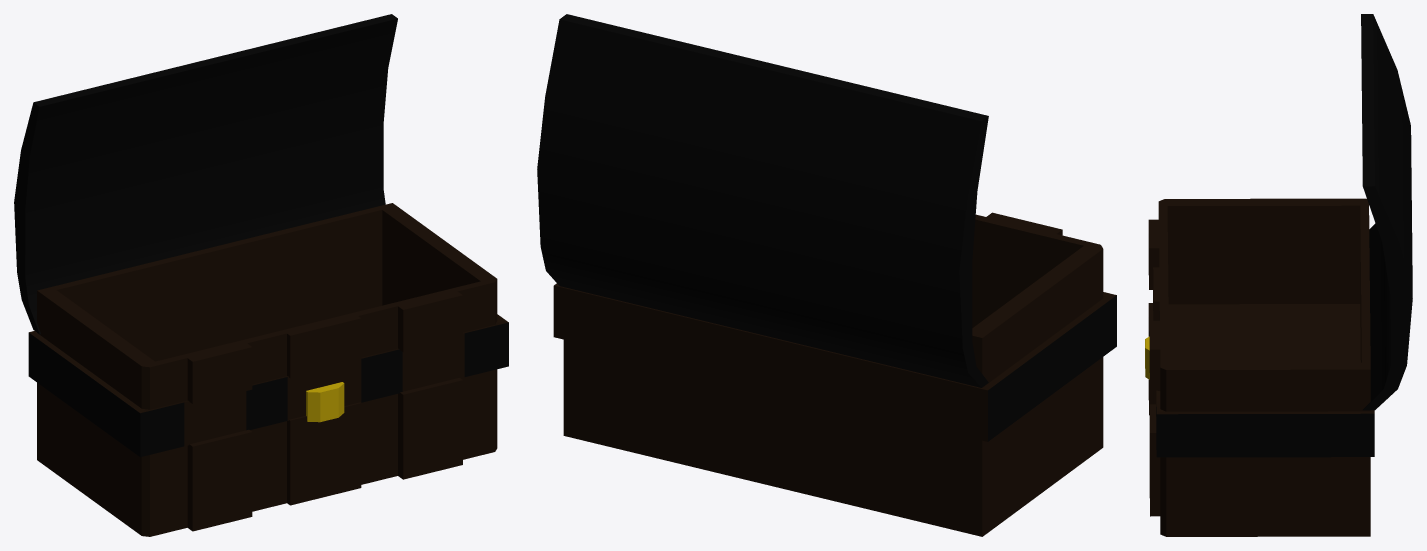
The model's file is Treasure_Chest_Small.fbx.
3 renders of one model, left to right at view 1: azimuth 30°, elevation 25°; view 2: azimuth 150°, elevation 25°; view 3: azimuth 270°, elevation 25°, orthographic. The views are drawn at different scales.
Visible parts, largest first — view 1: Treasure_Chest_Small; view 2: Treasure_Chest_Small; view 3: Treasure_Chest_Small.
Boxes of the visible parts, x1=… form: Treasure_Chest_Small: x1=14, y1=14, x2=508, y2=536; Treasure_Chest_Small: x1=537, y1=14, x2=1116, y2=536; Treasure_Chest_Small: x1=1145, y1=14, x2=1412, y2=536.
Bounding box in the file's own units: 5.86 × 5.39 × 3.73.
